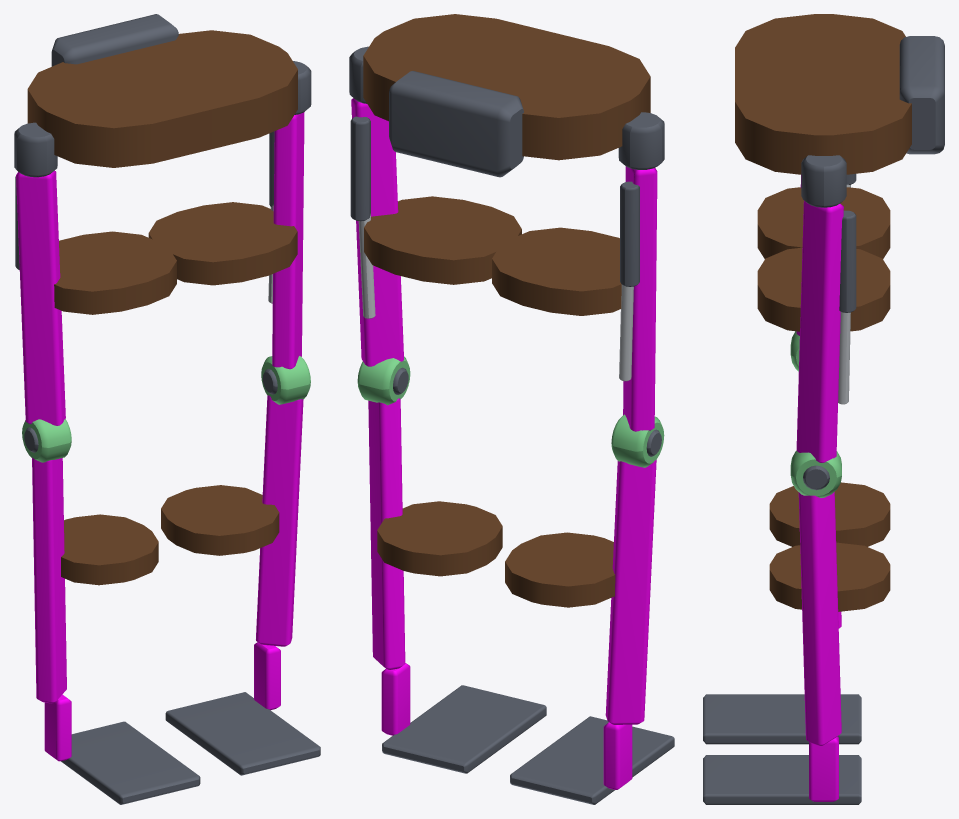
Rendered from porte_exosquelette.glb.
The picture shows the model from 3 angles, left to right: view 1: azimuth 30°, elevation 25°; view 2: azimuth 150°, elevation 25°; view 3: azimuth 270°, elevation 25°; orthographic projection. The views are drawn at different scales.
Parts seen in each view (by area): view 1: bassin__exo_sac_cuir.002, cuisse_d__exo_teinte.002, cuisse_g__exo_sac_cuir.002, cuisse_d__exo_sac_cuir.002, jambe_g__exo_teinte.002, jambe_d__exo_teinte.002, pied_g__exo_exo_metal.002, pied_d__exo_exo_metal.002, jambe_g__exo_sac_cuir.002, cuisse_g__exo_teinte.002, bassin__exo_exo_metal.002, jambe_d__exo_sac_cuir.002 (+4 smaller); view 2: bassin__exo_sac_cuir.002, bassin__exo_exo_metal.002, cuisse_g__exo_sac_cuir.002, jambe_d__exo_teinte.002, cuisse_d__exo_sac_cuir.002, pied_g__exo_exo_metal.002, jambe_g__exo_sac_cuir.002, jambe_g__exo_teinte.002, jambe_d__exo_sac_cuir.002, pied_d__exo_exo_metal.002, cuisse_g__exo_teinte.002, cuisse_d__exo_teinte.002 (+8 smaller); view 3: bassin__exo_sac_cuir.002, cuisse_g__exo_teinte.002, jambe_g__exo_teinte.002, bassin__exo_exo_metal.002, pied_g__exo_exo_metal.002, pied_d__exo_exo_metal.002, cuisse_g__exo_sac_cuir.002, cuisse_d__exo_sac_cuir.002, jambe_g__exo_sac_cuir.002, jambe_d__exo_sac_cuir.002, pied_g__exo_teinte.002, cuisse_g__exo_exo_metal.002 (+3 smaller).
Part boxes in pixels (left/top/right/bottom): bassin__exo_sac_cuir.002: left=27, top=30, right=297, bottom=167; cuisse_d__exo_teinte.002: left=16, top=170, right=65, bottom=425; cuisse_g__exo_sac_cuir.002: left=148, top=202, right=297, bottom=285; cuisse_d__exo_sac_cuir.002: left=54, top=231, right=176, bottom=314; jambe_g__exo_teinte.002: left=256, top=395, right=303, bottom=646; jambe_d__exo_teinte.002: left=32, top=458, right=66, bottom=703; pied_g__exo_exo_metal.002: left=165, top=692, right=320, bottom=775; pied_d__exo_exo_metal.002: left=61, top=721, right=200, bottom=804; jambe_g__exo_sac_cuir.002: left=161, top=485, right=279, bottom=555; cuisse_g__exo_teinte.002: left=272, top=112, right=304, bottom=369; bassin__exo_exo_metal.002: left=14, top=14, right=311, bottom=177; jambe_d__exo_sac_cuir.002: left=61, top=514, right=158, bottom=585; bassin__exo_sac_cuir.002: left=363, top=14, right=650, bottom=160; bassin__exo_exo_metal.002: left=349, top=46, right=664, bottom=177; cuisse_g__exo_sac_cuir.002: left=364, top=196, right=521, bottom=284; jambe_d__exo_teinte.002: left=605, top=460, right=656, bottom=724; cuisse_d__exo_sac_cuir.002: left=492, top=227, right=621, bottom=315; pied_g__exo_exo_metal.002: left=382, top=685, right=546, bottom=773; jambe_g__exo_sac_cuir.002: left=377, top=501, right=502, bottom=576; jambe_g__exo_teinte.002: left=368, top=398, right=405, bottom=669; jambe_d__exo_sac_cuir.002: left=505, top=532, right=615, bottom=607; pied_d__exo_exo_metal.002: left=510, top=716, right=674, bottom=804; cuisse_g__exo_teinte.002: left=351, top=98, right=403, bottom=366; cuisse_d__exo_teinte.002: left=623, top=166, right=657, bottom=431; bassin__exo_sac_cuir.002: left=735, top=14, right=911, bottom=174; cuisse_g__exo_teinte.002: left=796, top=200, right=843, bottom=462; jambe_g__exo_teinte.002: left=798, top=492, right=841, bottom=745; bassin__exo_exo_metal.002: left=801, top=36, right=944, bottom=207; pied_g__exo_exo_metal.002: left=703, top=755, right=861, bottom=804; pied_d__exo_exo_metal.002: left=703, top=694, right=861, bottom=744; cuisse_g__exo_sac_cuir.002: left=757, top=247, right=890, bottom=331; cuisse_d__exo_sac_cuir.002: left=757, top=187, right=890, bottom=258; jambe_g__exo_sac_cuir.002: left=769, top=542, right=890, bottom=611; jambe_d__exo_sac_cuir.002: left=769, top=482, right=890, bottom=546; pied_g__exo_teinte.002: left=809, top=736, right=838, bottom=801; cuisse_g__exo_exo_metal.002: left=839, top=210, right=856, bottom=312.
Size of the model in its own units: 0.46 by 1.01 by 0.32.
